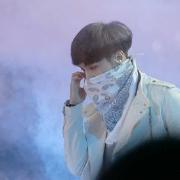WRONG: (81, 53, 119, 94)
